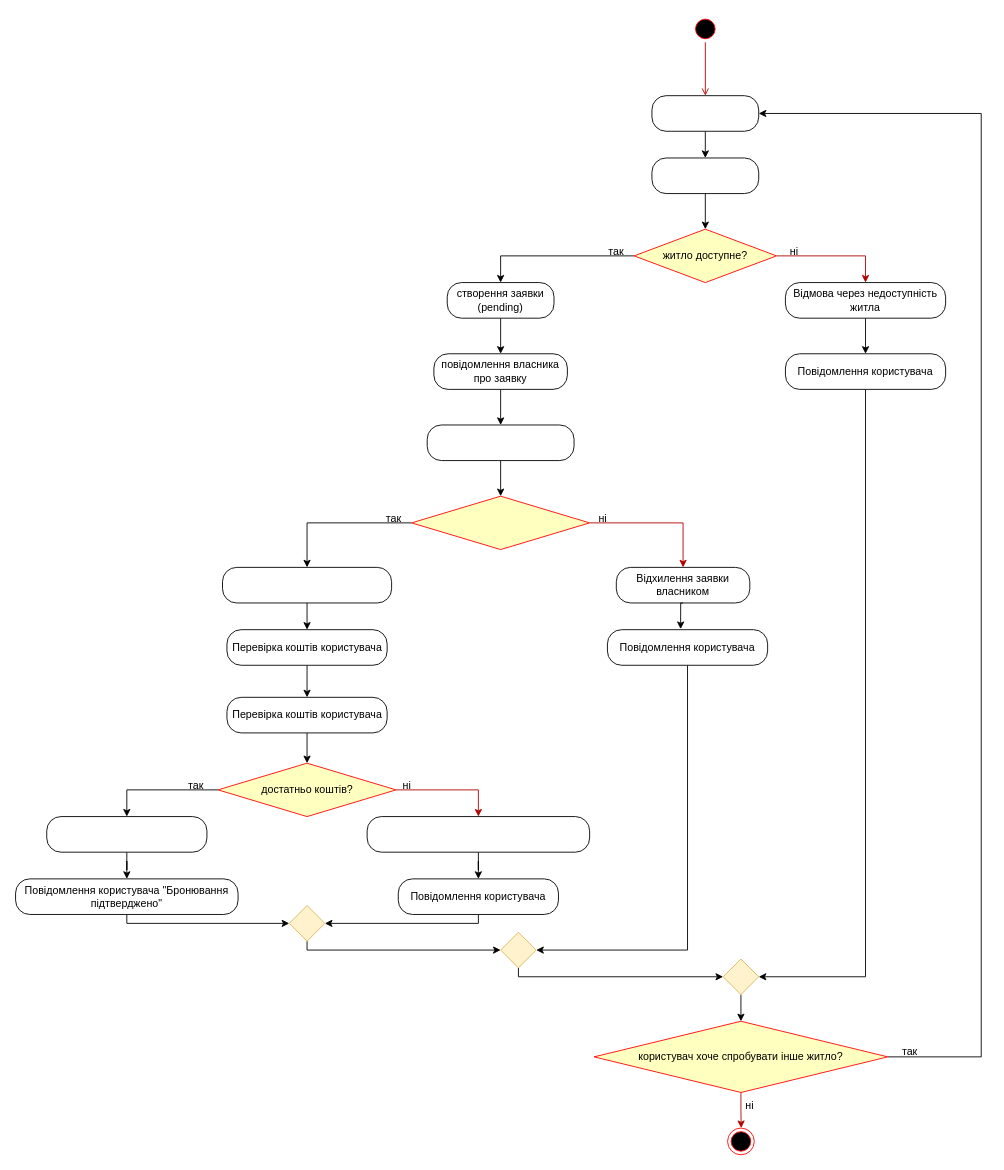
Some shapes in this 1004 by 1170 pixel diagram are drawn without their labels. Each missing label, with the centre of its shape:
власник підтверджує?: (500,522)
Відхилення через недостатньо коштів: (478,834)
оновлення статусу - Confirmed: (307,584)
Оплата та переказ власнику: (126,834)
очікування відповіді власника: (500,442)
Перевірка доступності житла: (705,175)
Подати заявку на бронювання: (705,113)
